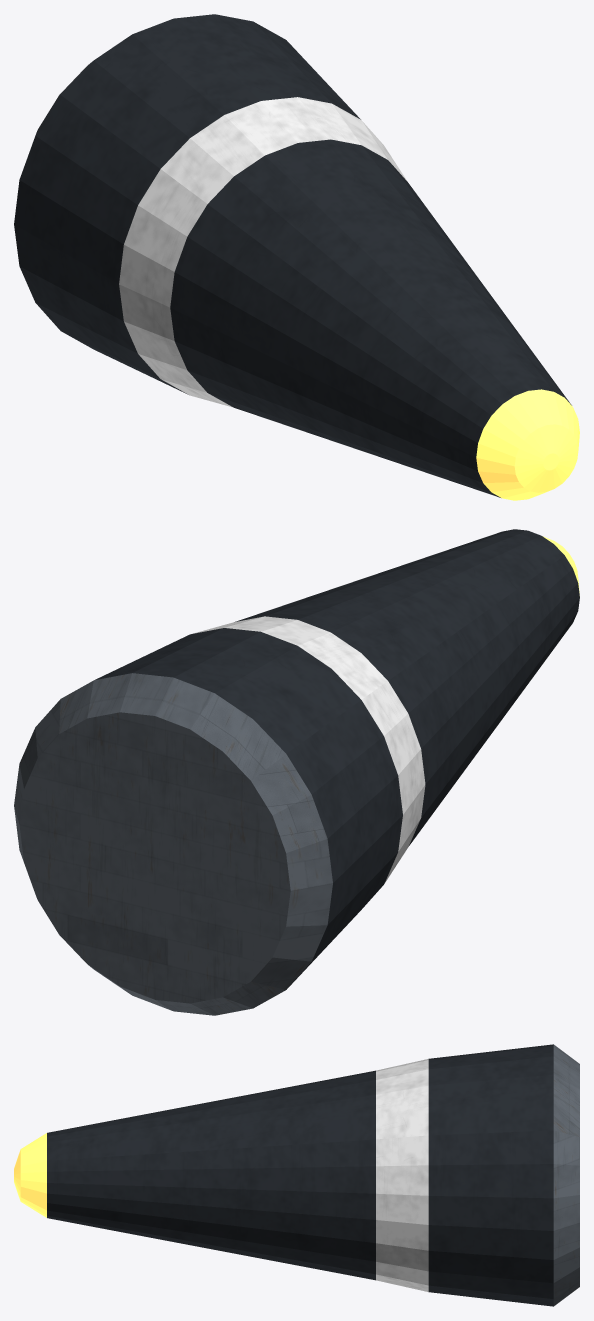
File: mirv_warhead.gltf
3 renders of one model, top to bottom at view 1: azimuth 30°, elevation 25°; view 2: azimuth 150°, elevation 25°; view 3: azimuth 270°, elevation 25°, orthographic. The views are drawn at different scales.
Parts seen in each view (by area): view 1: MIRVWarhead; view 2: MIRVWarhead; view 3: MIRVWarhead.
Part boxes in pixels (<box>): MIRVWarhead: <box>14,14,579,500</box>; MIRVWarhead: <box>14,529,579,1015</box>; MIRVWarhead: <box>14,1044,579,1306</box>.
Size of the model in its own units: 0.4 by 0.4 by 0.86.
Materials: 4 (3 with a texture image).
